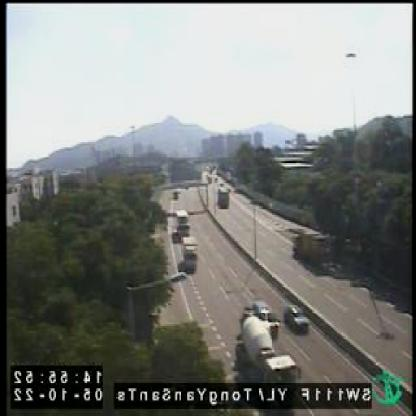Car: (252, 302, 281, 329), (286, 304, 311, 330)
Truck: (243, 317, 304, 383), (183, 236, 198, 270), (176, 208, 191, 239)
